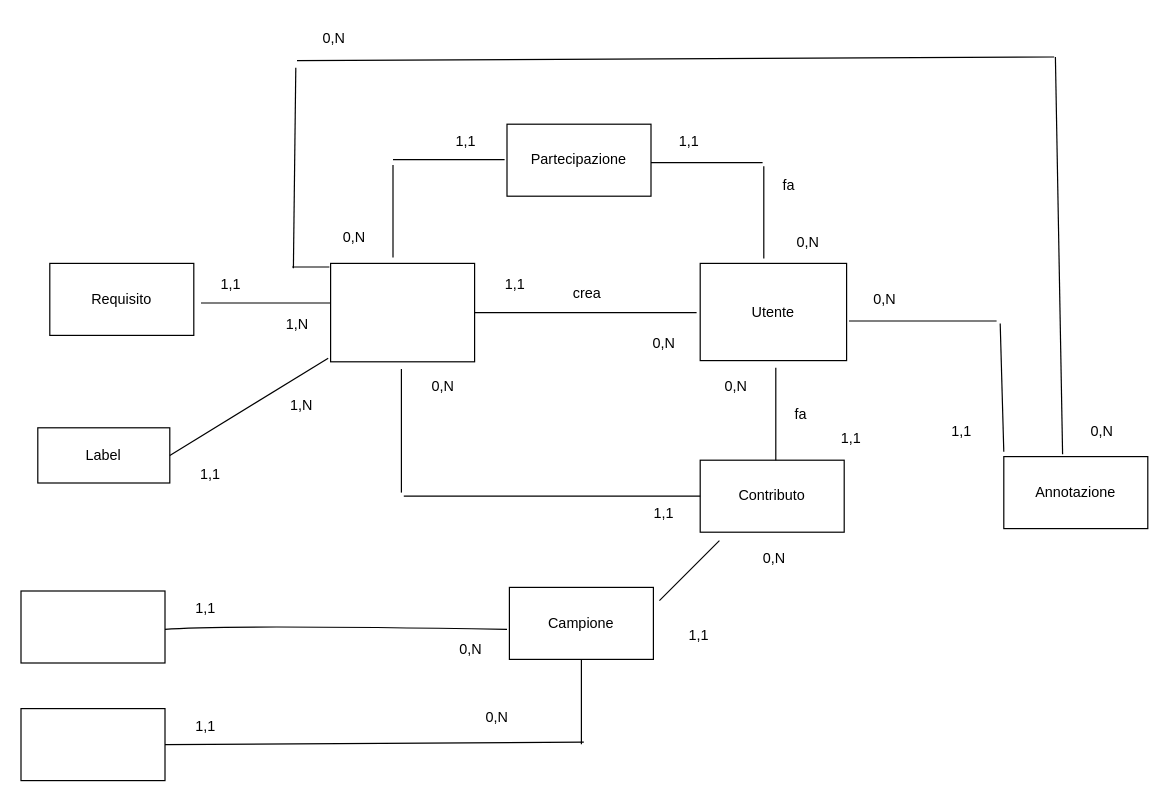
The diagram is 1169 pixels wide and 802 high, and some of its shapes have lost their labels. The centre of each missing label's shape, as x and y in pixels:
"Campagna" goes at [402,312].
"Dato_Sensore" goes at [92,626].
"Media" goes at [92,744].
